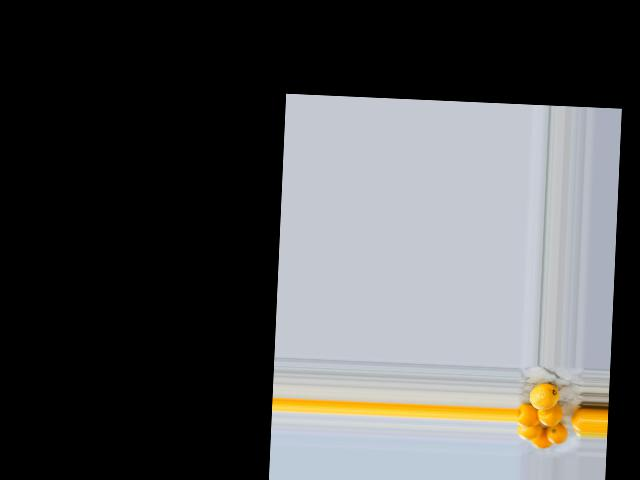lemon: (525, 382, 563, 412)
